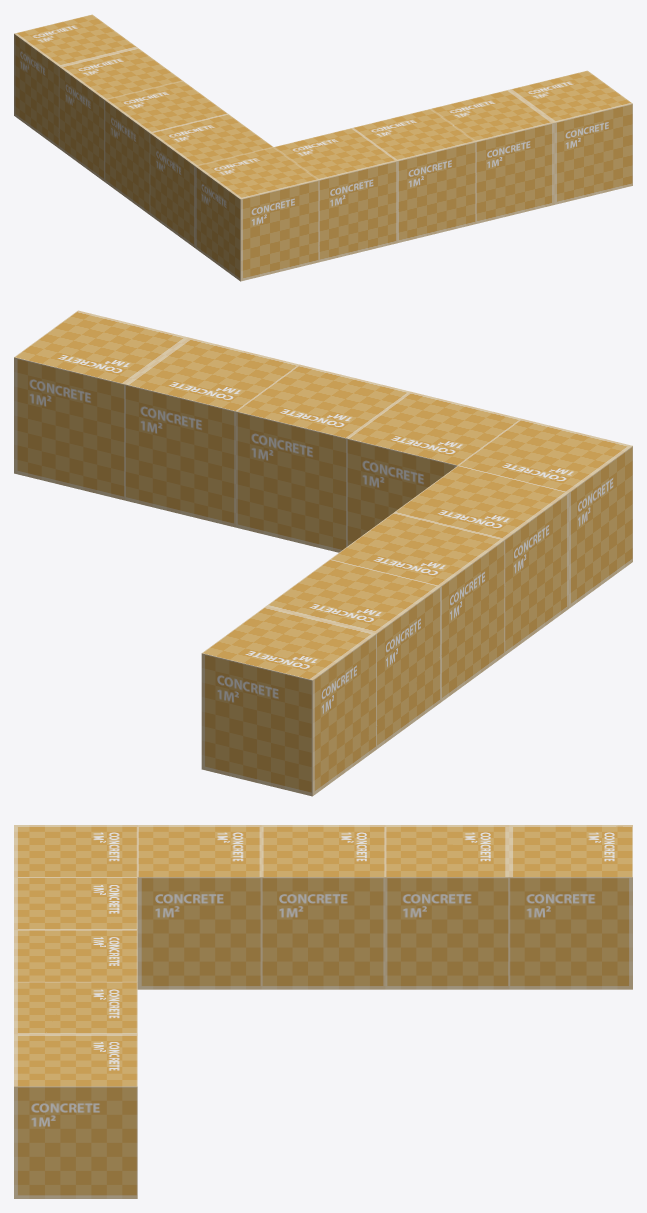
File: construction_edge_convex_08.fbx
The picture shows the model from 3 angles, top to bottom: view 1: azimuth 30°, elevation 25°; view 2: azimuth 150°, elevation 25°; view 3: azimuth 270°, elevation 25°; orthographic projection. The views are drawn at different scales.
Visible parts, largest first — view 1: construction_edge_convex_08; view 2: construction_edge_convex_08; view 3: construction_edge_convex_08.
Boxes of the visible parts, x1,y1,x2,y2 form: construction_edge_convex_08: (14,14,632,281); construction_edge_convex_08: (14,310,632,796); construction_edge_convex_08: (14,825,632,1198).
Bounding box in the file's own units: 500 × 100 × 500.
